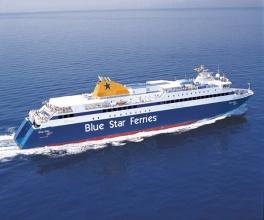otherboat: (12, 64, 253, 152)
